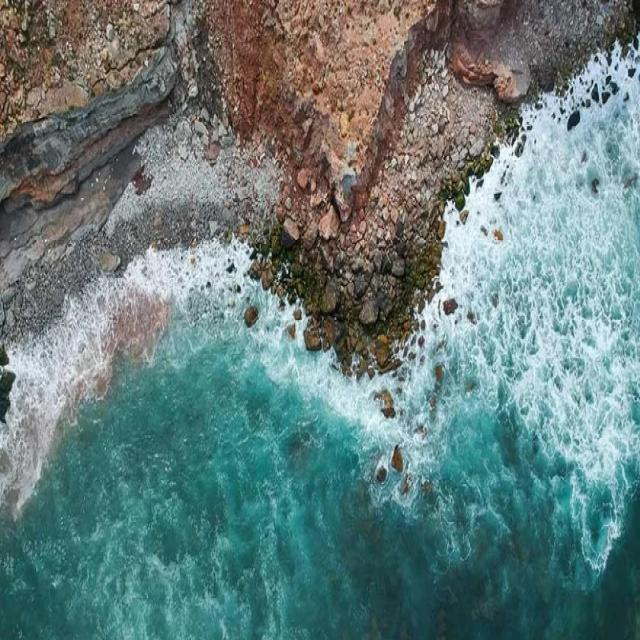no-oil: (22, 322, 635, 630)
